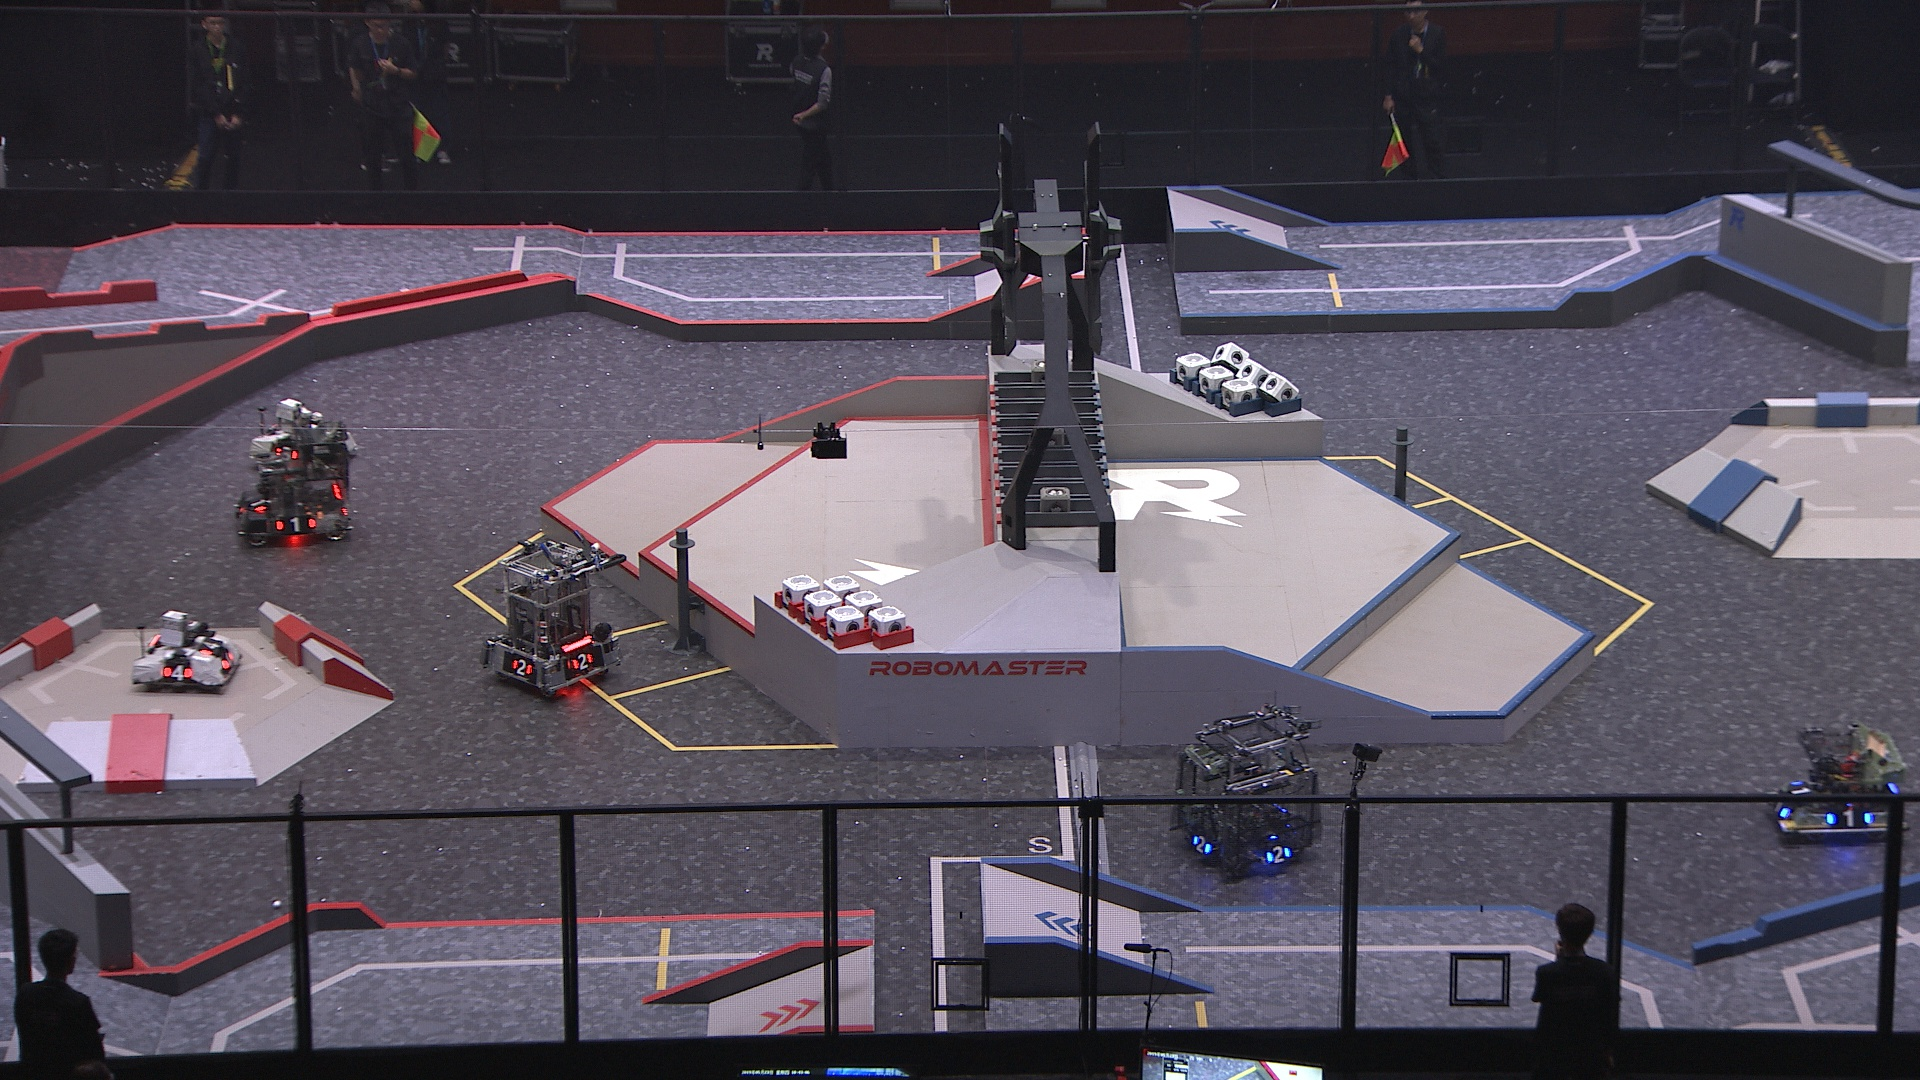armor: (1822, 802, 1875, 829), (272, 516, 315, 534), (1768, 793, 1795, 822), (1783, 775, 1815, 799), (568, 650, 599, 674), (164, 662, 195, 684), (269, 440, 302, 462), (506, 654, 535, 678), (1265, 843, 1294, 866), (1189, 829, 1215, 855), (218, 645, 237, 674), (193, 636, 218, 655), (245, 493, 269, 513)
car: (1168, 702, 1321, 884), (481, 537, 622, 698), (1760, 716, 1913, 843), (233, 414, 363, 545), (127, 605, 245, 698), (248, 396, 340, 467)
